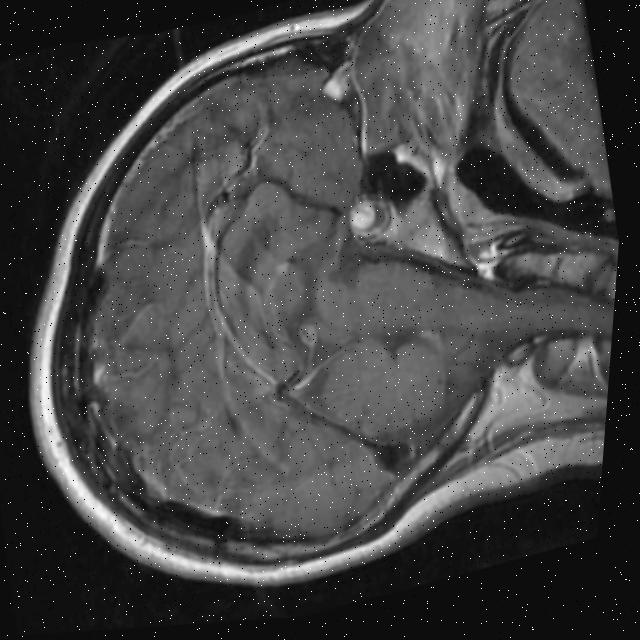Pituitary: (344, 196, 381, 233)
